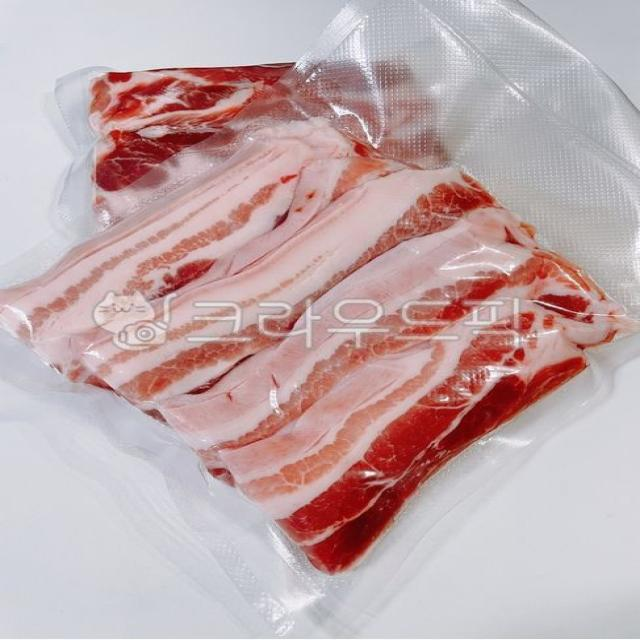pork: (34, 21, 626, 572)
